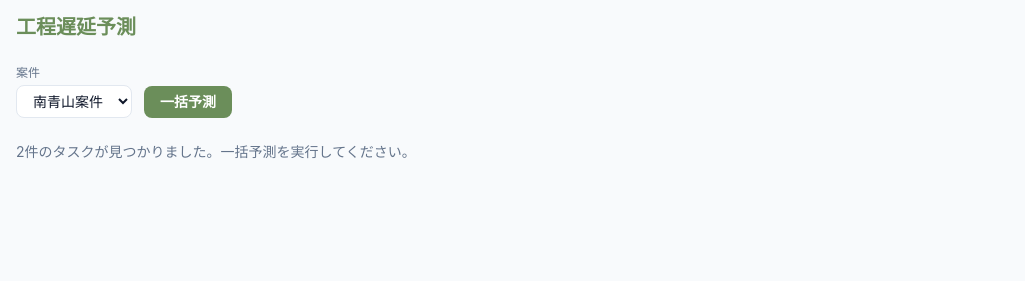
Scenario: DelayPredictionPage — RiskBadge › 予測後に RiskBadge が存在する
Click the button with test id "predict-btn" at [188, 102], box [144,86,232,118]
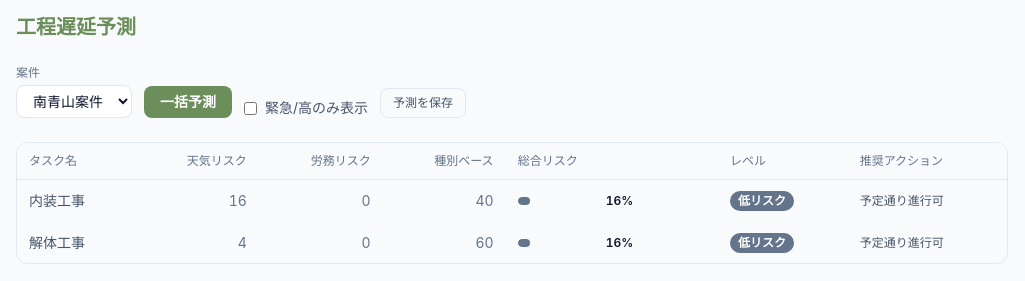
Expected: the text with test id "risk-badge-" is shown, [730,191,794,211]
